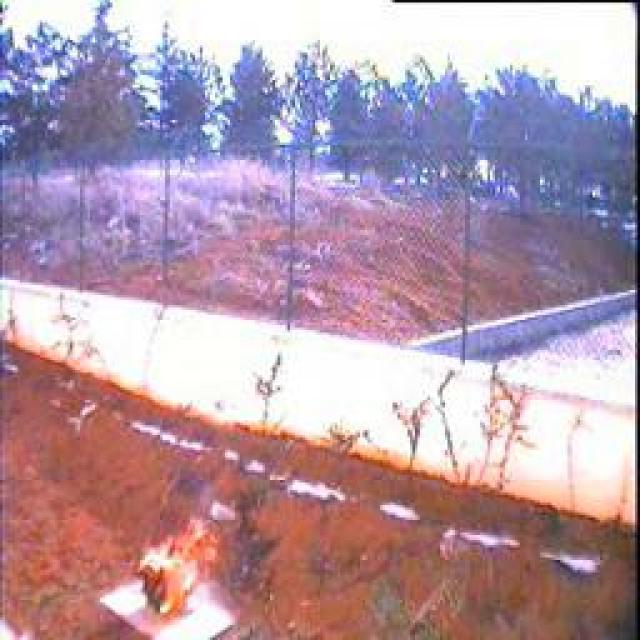Fire: (133, 508, 224, 624)
